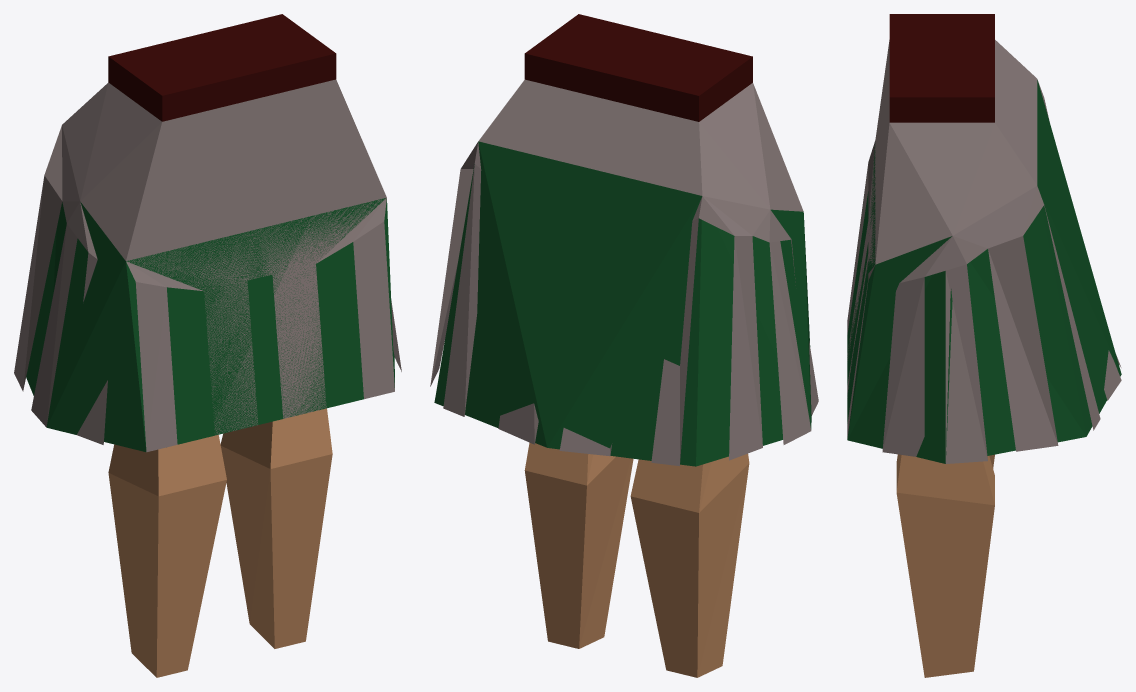
File: model_430_obj_wear.obj
The picture shows the model from 3 angles, left to right: view 1: azimuth 30°, elevation 25°; view 2: azimuth 150°, elevation 25°; view 3: azimuth 270°, elevation 25°; orthographic projection. The views are drawn at different scales.
Visible parts, largest first — view 1: 430; view 2: 430; view 3: 430.
Part boxes in pixels (x1,y1,x2,y2): 430: [14, 14, 401, 677]; 430: [430, 14, 818, 677]; 430: [847, 14, 1121, 677].
Bounding box in the file's own units: 56 × 92 × 39.
